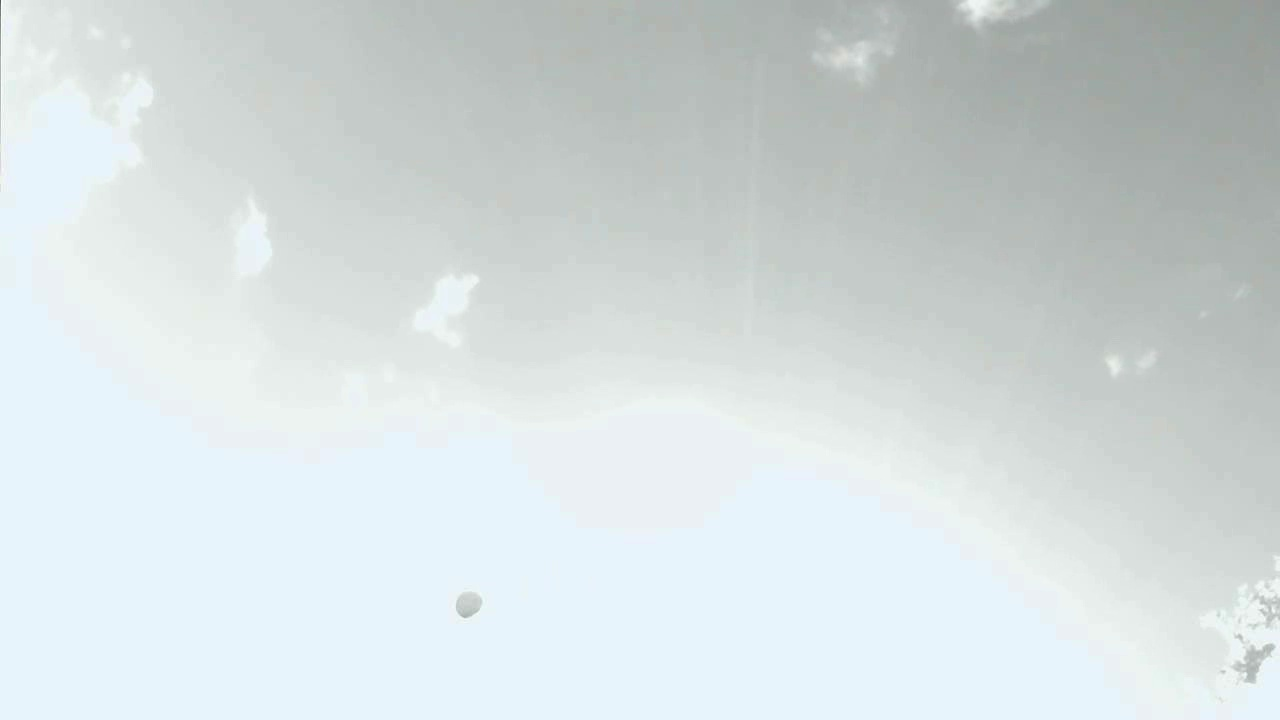Football-Spotter: (455, 591, 482, 618)
